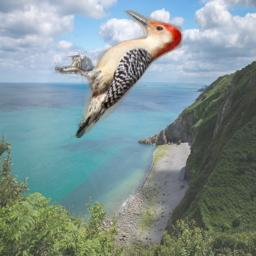Woodpecker: (55, 10, 185, 138)
